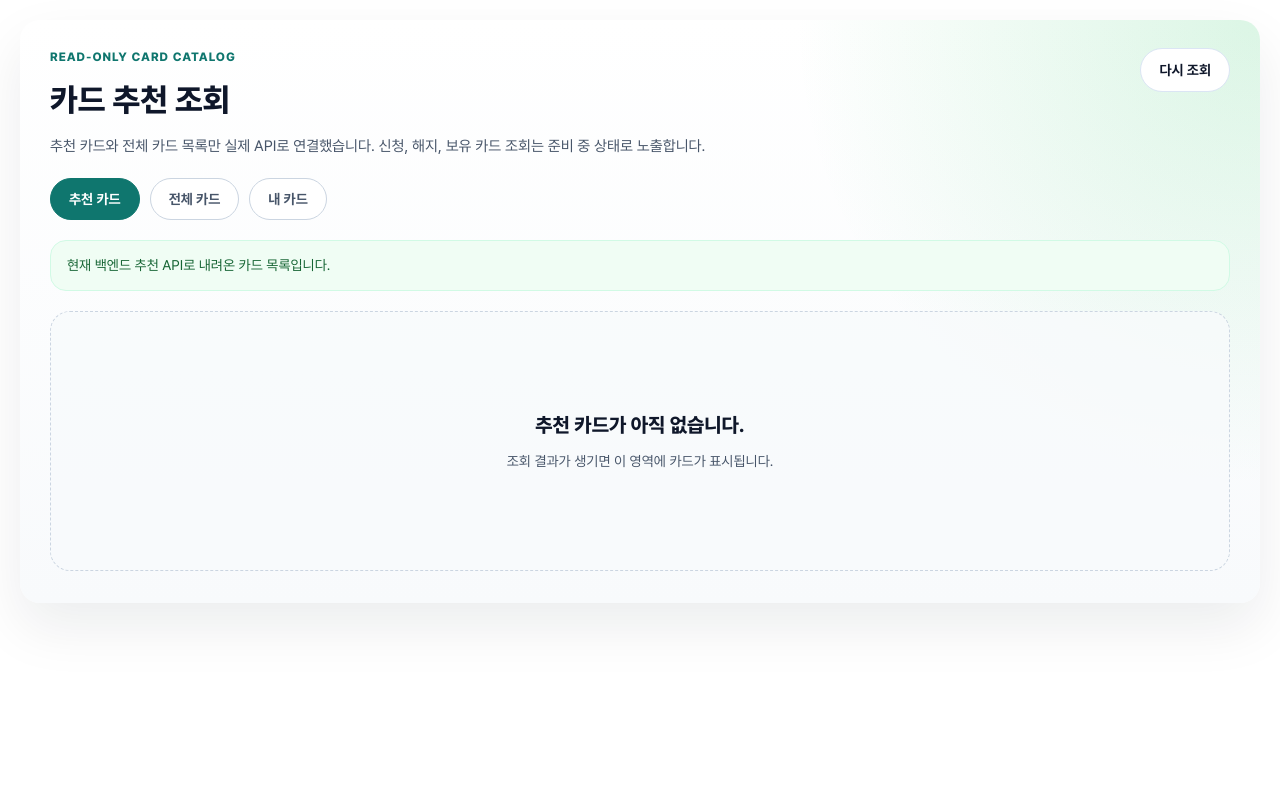
Scenario: CardCatalog › shows the explicit unsupported state for my cards
Click the button "내 카드" at [288, 199], box [249,178,327,220]
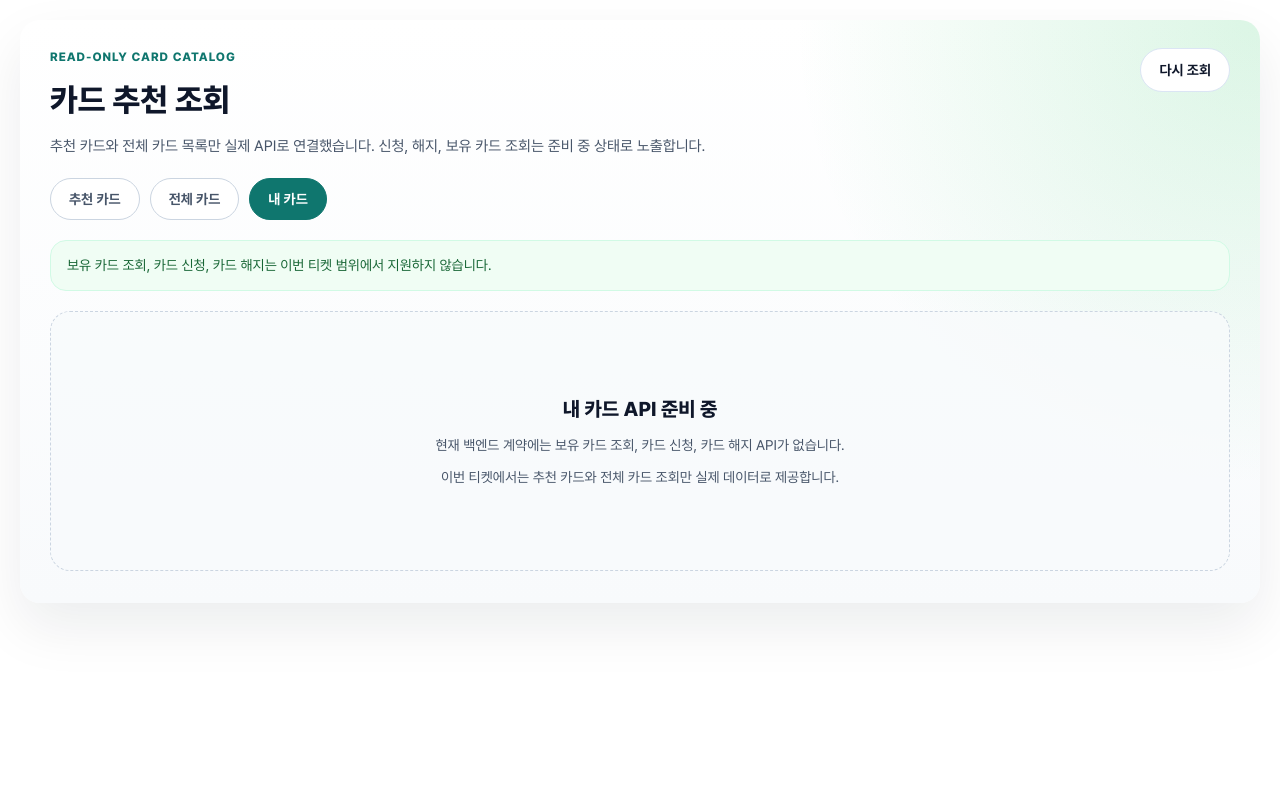
Result: the element with test id "card-mine-disabled" is shown at [50,311,1230,571]
Result: the text "내 카드 API 준비 중" is shown at [563,394,717,424]
